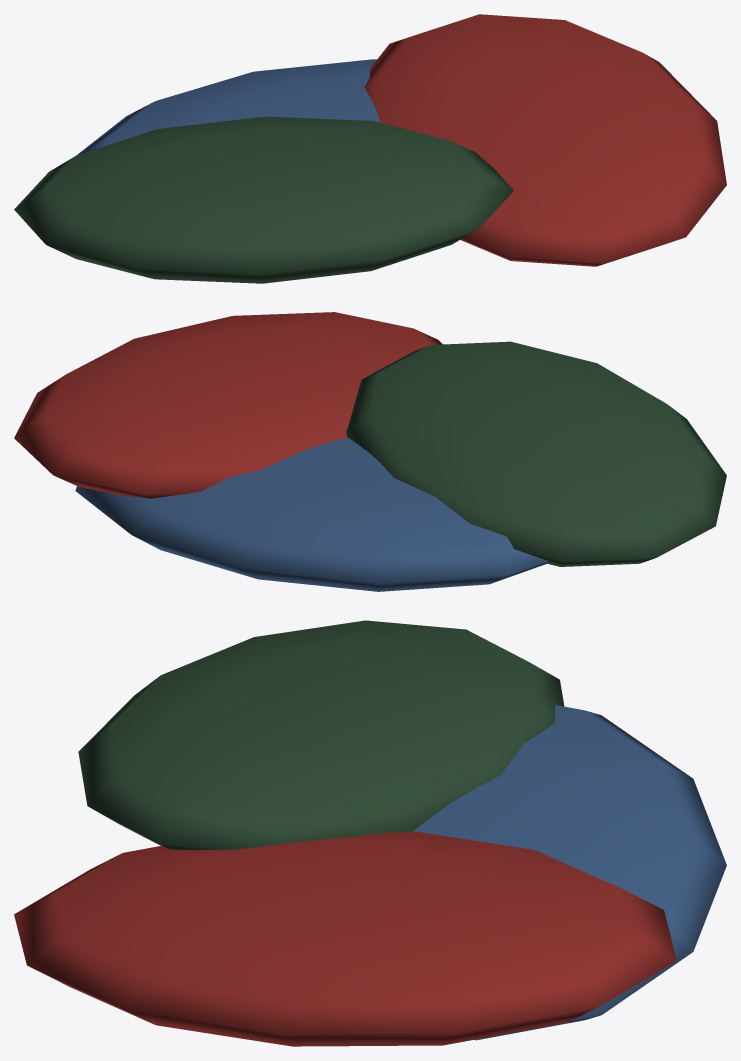
The model's file is bed-bits.glb.
The picture shows the model from 3 angles, top to bottom: view 1: azimuth 30°, elevation 25°; view 2: azimuth 150°, elevation 25°; view 3: azimuth 270°, elevation 25°; orthographic projection. The views are drawn at different scales.
Bounding box in the file's own units: 2.18 × 0.3644 × 1.64.
